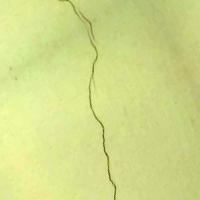crack: (53, 0, 127, 199)
